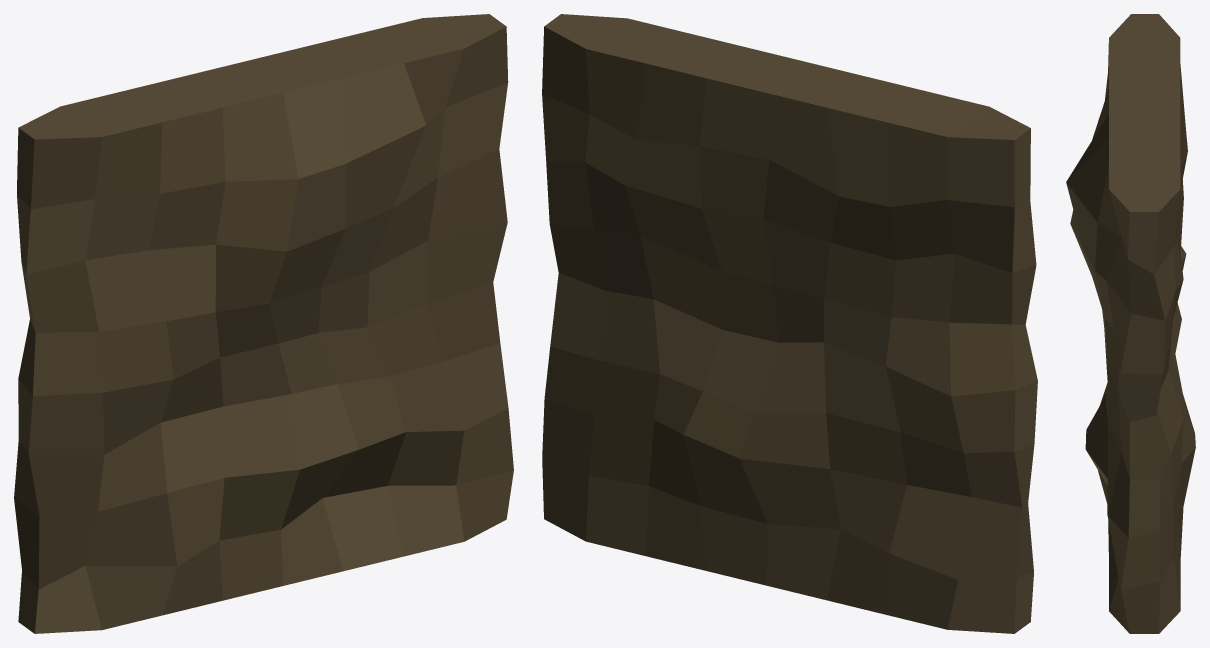
The model's file is BigWall.2.fbx.
3 views of the same model, side by side, from view 1: azimuth 30°, elevation 25°; view 2: azimuth 150°, elevation 25°; view 3: azimuth 270°, elevation 25° (orthographic). The views are drawn at different scales.
Parts seen in each view (by area): view 1: Big_Wall.2; view 2: Big_Wall.2; view 3: Big_Wall.2.
Part boxes in pixels (left/top/right/bottom): Big_Wall.2: left=14, top=14, right=513, bottom=633; Big_Wall.2: left=542, top=14, right=1037, bottom=633; Big_Wall.2: left=1066, top=14, right=1195, bottom=633.
Size of the model in its own units: 1333 by 1304 by 362.
